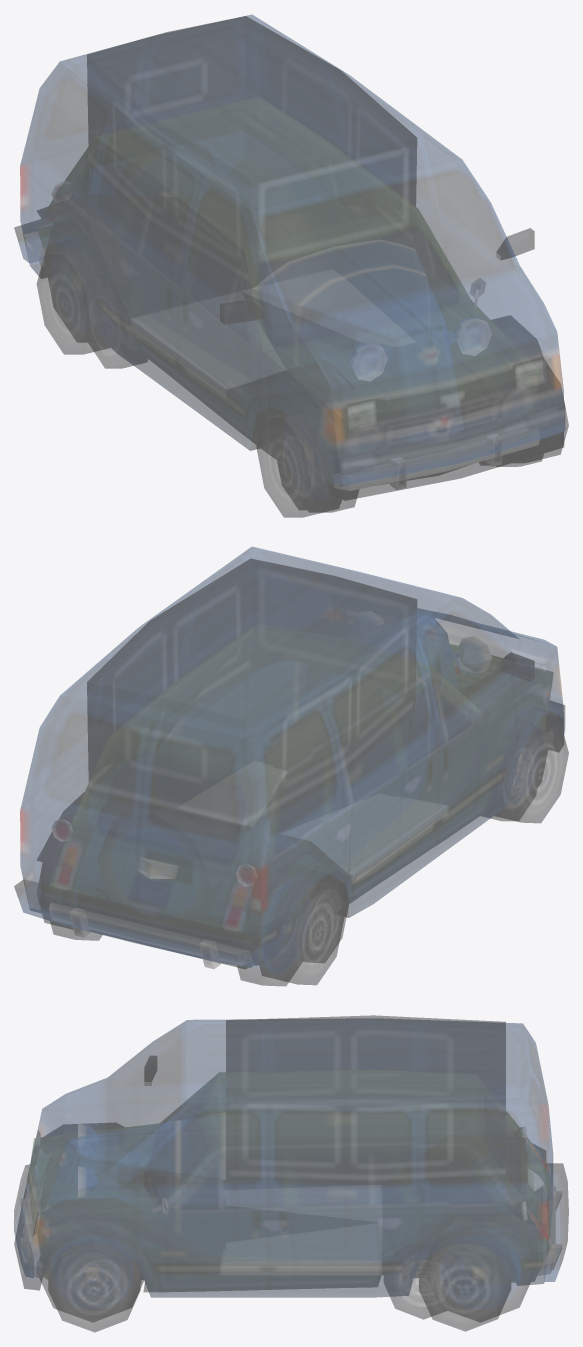
Rendered from cars.glb.
The picture shows the model from 3 angles, top to bottom: view 1: azimuth 30°, elevation 25°; view 2: azimuth 150°, elevation 25°; view 3: azimuth 270°, elevation 25°; orthographic projection. The views are drawn at different scales.
Visible parts, largest first — view 1: car4, car7, car1; view 2: car4, car7, car1; view 3: car4, car7, car1.
Boxes of the visible parts, x1,y1,x2,y2 form: car4: [14, 14, 568, 517]; car7: [37, 16, 548, 512]; car1: [36, 97, 540, 510]; car4: [14, 547, 568, 984]; car7: [37, 559, 548, 986]; car1: [49, 627, 553, 968]; car4: [14, 1018, 568, 1332]; car7: [37, 1015, 545, 1322]; car1: [21, 1070, 561, 1319].
Size of the model in its own units: 3.4 by 2.86 by 6.3.
3 materials, 3 textured.
